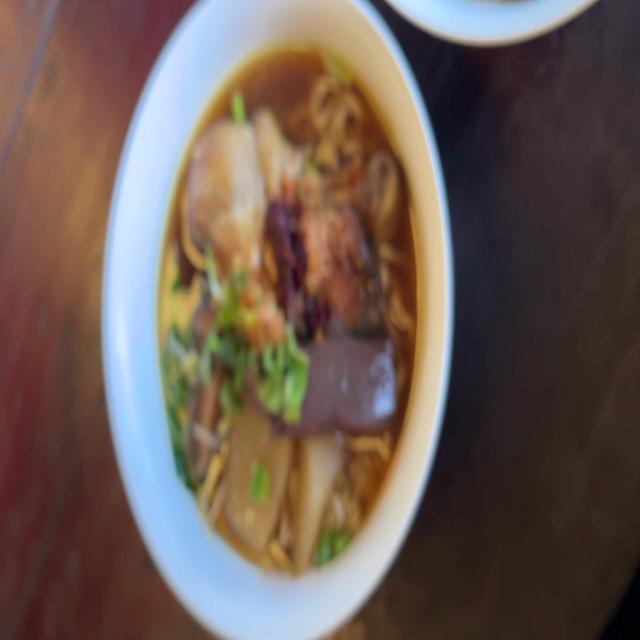noodle: (154, 43, 434, 556)
